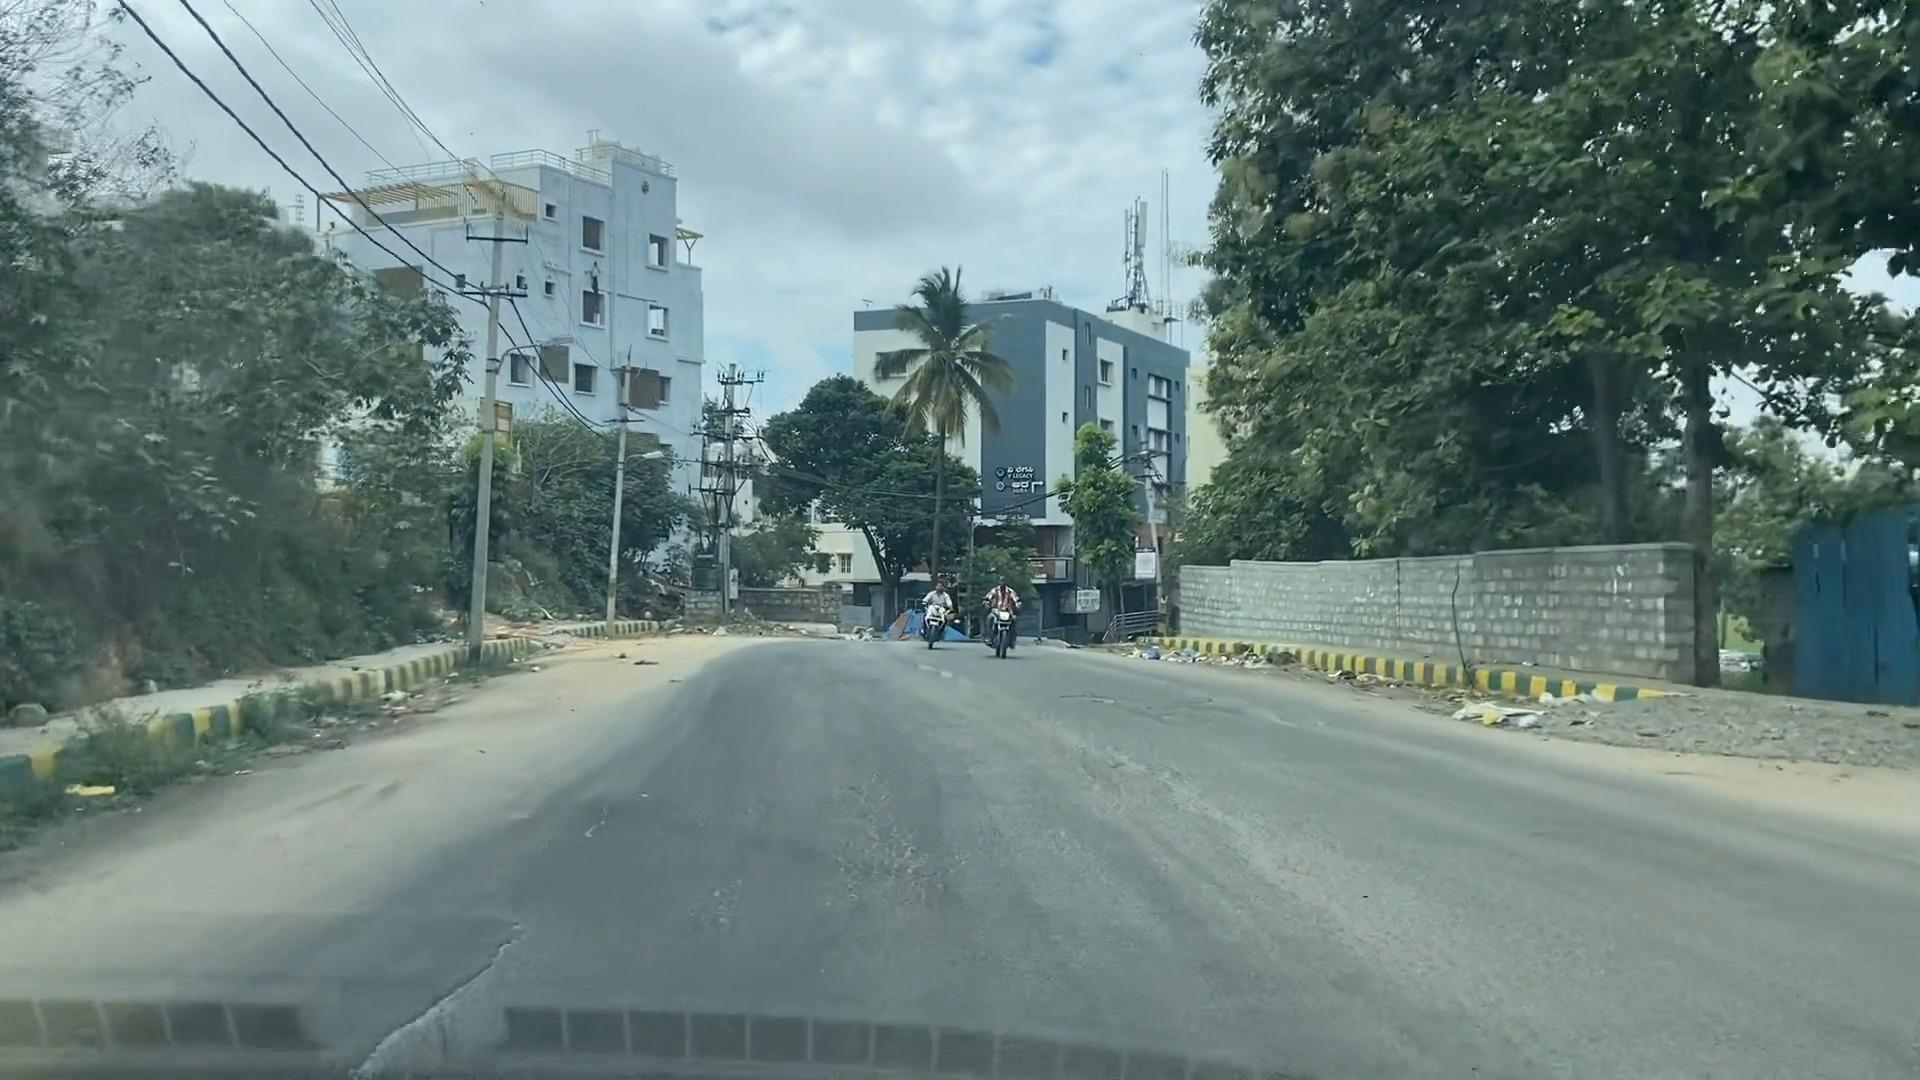RoadDamages: (270, 890, 612, 1077), (1044, 682, 1315, 773)
